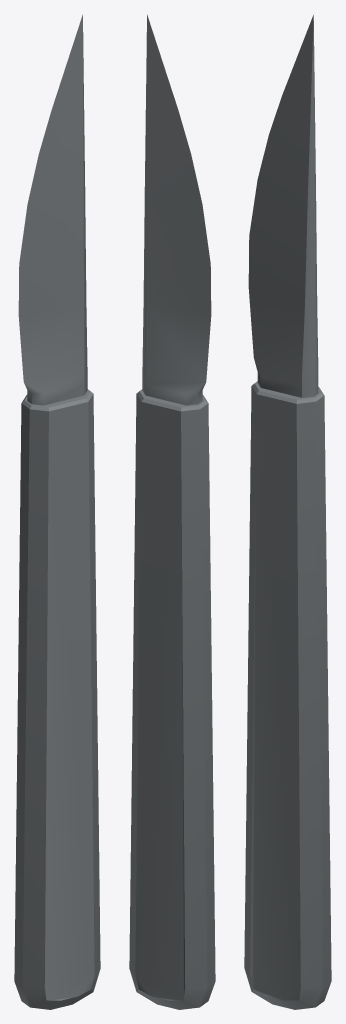
The model's file is PRP_NURSE_TOOL_01.FBX.
3 renders of one model, left to right at view 1: azimuth 30°, elevation 25°; view 2: azimuth 150°, elevation 25°; view 3: azimuth 330°, elevation 25°, orthographic.
Visible parts, largest first — view 1: PRP_NURSE_TOOL_01; view 2: PRP_NURSE_TOOL_01; view 3: PRP_NURSE_TOOL_01.
Boxes of the visible parts, <box> form: PRP_NURSE_TOOL_01: <box>14,14,100,1009</box>; PRP_NURSE_TOOL_01: <box>129,14,215,1009</box>; PRP_NURSE_TOOL_01: <box>244,15,331,1009</box>.
Size of the model in its own units: 1.4 by 16.83 by 0.7603.
